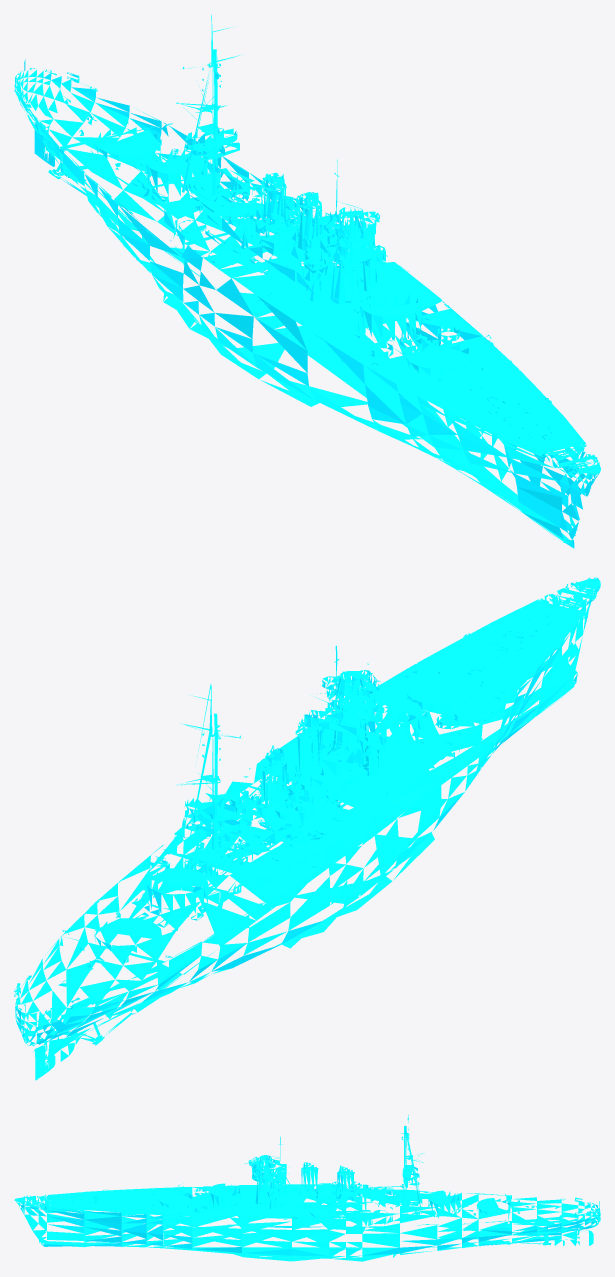
The model's file is Giulio_Cesare.glb.
The picture shows the model from 3 angles, top to bottom: view 1: azimuth 30°, elevation 25°; view 2: azimuth 150°, elevation 25°; view 3: azimuth 270°, elevation 25°; orthographic projection. The views are drawn at different scales.
Bounding box in the file's own units: 1.87 × 3.23 × 12.44.
